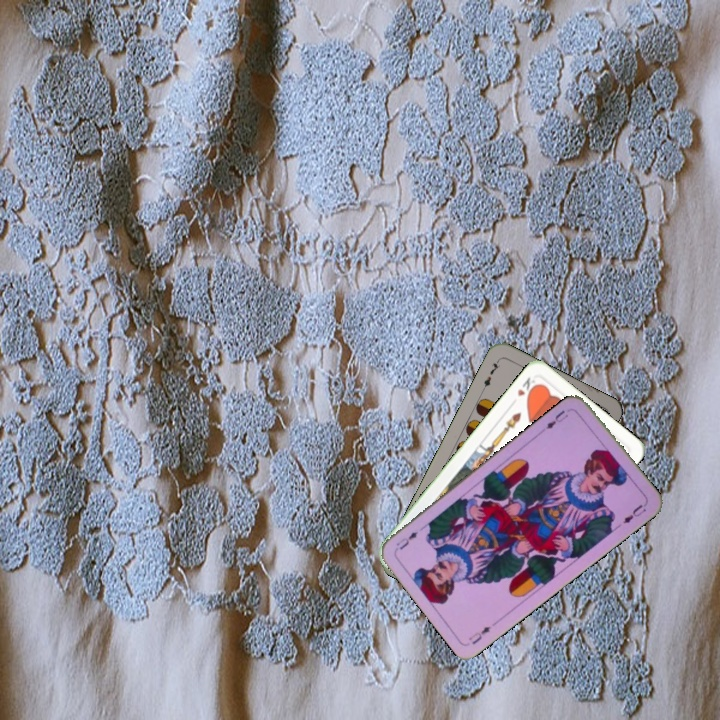E7: (478, 355, 503, 393)
EU: (541, 406, 571, 432), (464, 622, 493, 647)
HK: (513, 373, 540, 401)
